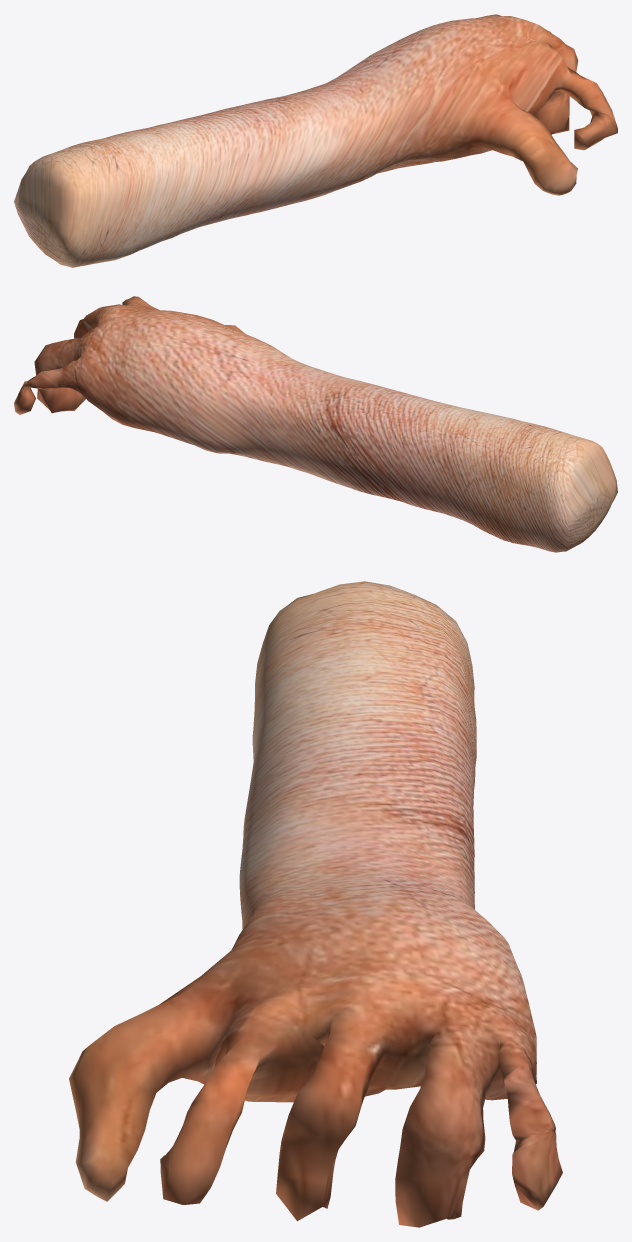
File: geo_Vhånd_lukket.glb
3 views of the same model, one above another, from view 1: azimuth 30°, elevation 25°; view 2: azimuth 150°, elevation 25°; view 3: azimuth 270°, elevation 25° (orthographic). The views are drawn at different scales.
Visible parts, largest first — view 1: geo_Vhånd_lukket; view 2: geo_Vhånd_lukket; view 3: geo_Vhånd_lukket.
Boxes of the visible parts, box(x1,y1,x2,y2) form: geo_Vhånd_lukket: box(14, 14, 617, 267); geo_Vhånd_lukket: box(14, 296, 617, 552); geo_Vhånd_lukket: box(69, 581, 562, 1227).
Bounding box in the file's own units: 3.65 × 0.8549 × 1.45.
Materials: 1 (1 with a texture image).
